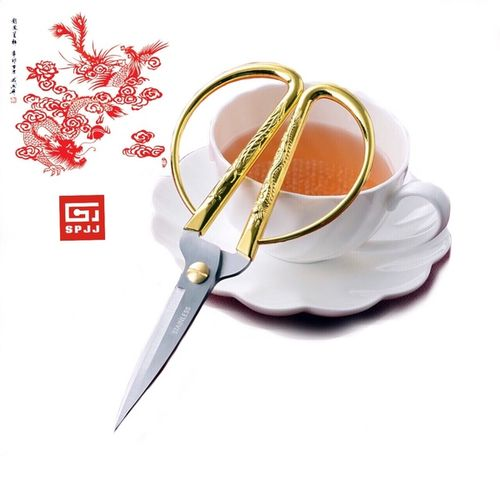scissor: (114, 61, 376, 428)
